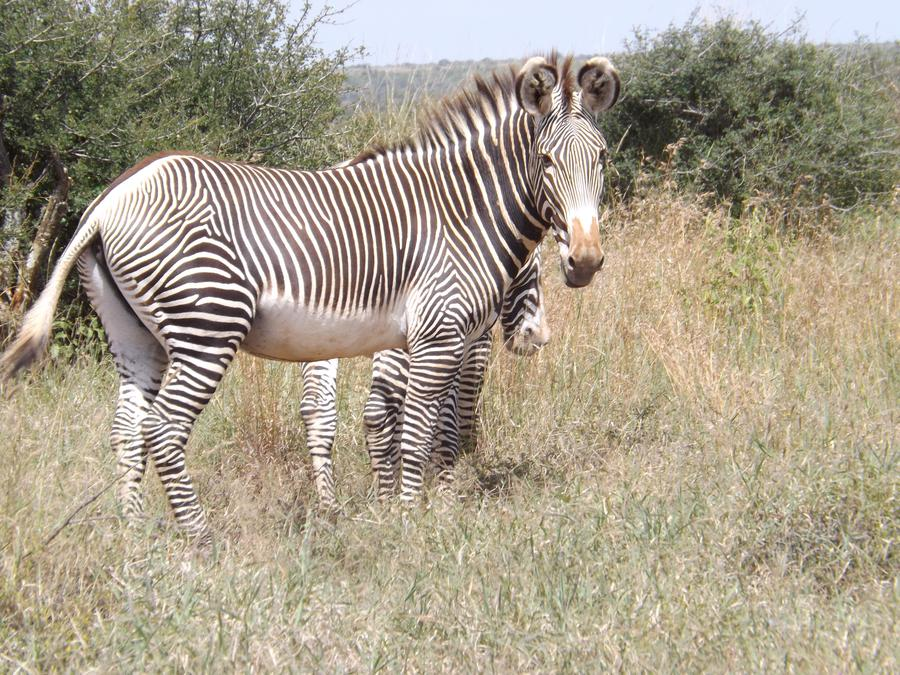zebra_grevys: (81, 152, 474, 337)
